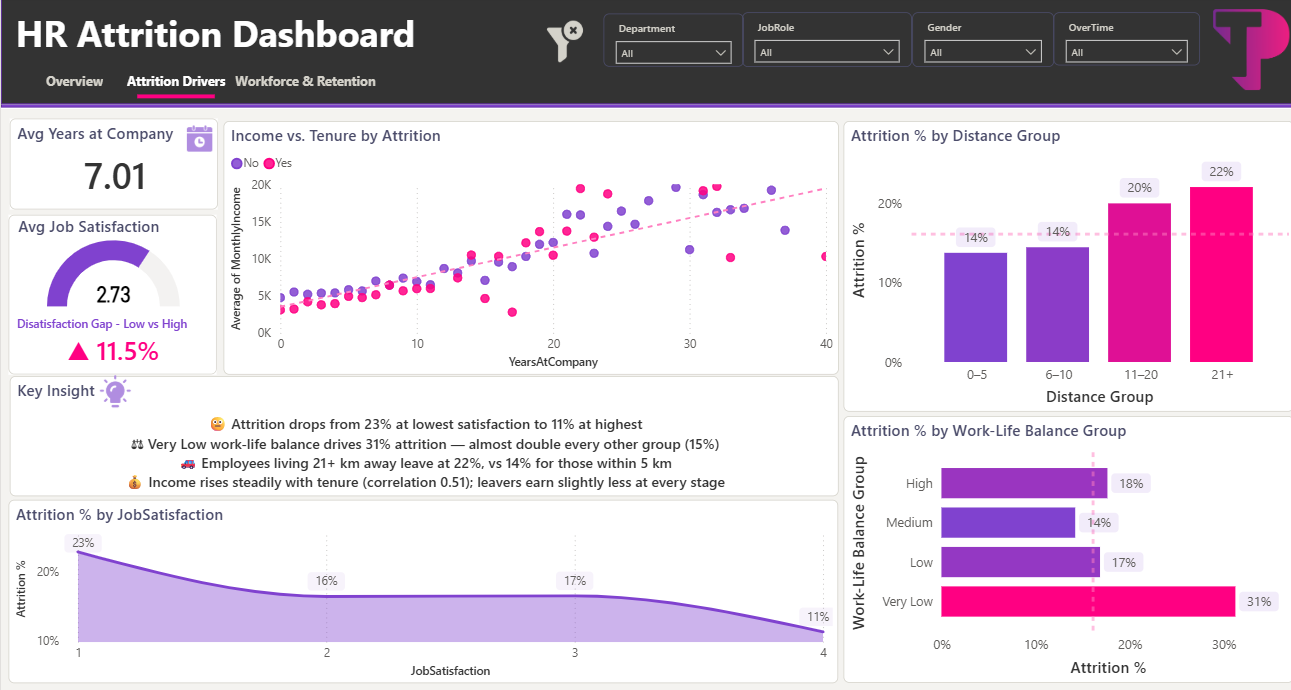

What the dashboard file says about the page in this screenshot:
{"tool":"powerbi","page":{"name":"Attrition Drivers","canvas":[1342,720],"ordinal":1},"visuals":[{"type":"shape","box":[0,5,1342,110.6],"z":0,"group":"g1"},{"type":"scatterChart","title":"Income vs. Tenure by Attrition","fields":{"Series":["Fact_Employee.Attrition"],"X":["Fact_Employee.YearsAtCompany"],"Y":["Avg(Fact_Employee.MonthlyIncome)"]},"box":[230.8,129.7,638.1,263.3],"z":0},{"type":"shape","box":[7.8,226.7,216.2,165.9],"z":0,"group":"g3"},{"type":"shape","box":[0,1.2,1342,110.9],"z":1000,"group":"g1"},{"type":"card","title":"Avg Years at Company","fields":{"Values":["Avg(Fact_Employee.YearsAtCompany)"]},"box":[8.8,126.9,216.2,94.3],"z":1000,"group":"g2"},{"type":"clusteredBarChart","fields":{"Category":["Fact_Employee.Work-Life Balance Group"],"Y":["Table_Measures.Attrition %"]},"box":[874.7,436.1,467.5,276.5],"z":1000},{"type":"image","box":[1253.3,0,89,110.9],"z":2000,"group":"g1"},{"type":"clusteredColumnChart","fields":{"Category":["Fact_Employee.Distance Group"],"Y":["Table_Measures.Attrition %"]},"box":[874.7,129.4,467.5,301.6],"z":2000},{"type":"card","title":"\tKey Insight","fields":{"Values":["Table_Measures.Key Insight - Satisfaction"]},"box":[9.1,394.2,859.8,124.5],"z":3000},{"type":"gauge","title":"\tAvg Job Satisfaction","fields":{"Y":["Avg(Fact_Employee.JobSatisfaction)"]},"box":[12.6,226.7,207.7,100.5],"z":4000,"group":"g3"},{"type":"areaChart","fields":{"Category":["Fact_Employee.JobSatisfaction"],"Y":["Table_Measures.Attrition %"]},"box":[7.8,522.6,861.1,190.6],"z":4000},{"type":"group","id":"g1","title":"Group 7","box":[0,0,1342.2,117.3],"z":5000},{"type":"slicer","fields":{"Values":["Dim_Department.Department"]},"box":[624.6,17.6,145.8,55.3],"z":6000,"group":"g1"},{"type":"group","id":"g2","title":"Group 1","box":[8.8,126.9,216.2,94.3],"z":6000},{"type":"slicer","fields":{"Values":["Dim_JobRole.JobRole"]},"box":[769.2,16.3,176,56.6],"z":7000,"group":"g1"},{"type":"slicer","fields":{"Values":["Fact_Employee.Gender"]},"box":[945.1,16.3,147,56.6],"z":8000,"group":"g1"},{"type":"card","title":"Disatisfaction Gap - Low vs High","fields":{"Values":["Table_Measures.Satisfaction Gap Format"]},"box":[11.6,332.3,209.9,56.6],"z":8000,"group":"g3"},{"type":"image","box":[88.2,387.8,61,45.4],"z":8000},{"type":"slicer","fields":{"Values":["Fact_Employee.OverTime"]},"box":[1092.2,16.3,152.1,55.3],"z":9000,"group":"g1"},{"type":"group","id":"g3","title":"Group 2","box":[7.8,226.7,215.3,166],"z":9000},{"type":"textbox","box":[10.1,7.5,475.1,64.1],"z":11000,"group":"g1"},{"type":"shape","box":[26.4,57,100.5,60.3],"z":12000,"group":"g1"},{"type":"shape","box":[129.4,56.6,104.3,60.3],"z":13000,"group":"g1"},{"type":"shape","box":[236.3,56.6,159.6,60.3],"z":14000,"group":"g1"},{"type":"shape","box":[140.8,95.5,80.4,16.3],"z":15000,"group":"g1"},{"type":"image","box":[188.3,127,36.6,41.4],"z":17008,"group":"g2"},{"type":"image","box":[544.2,20.1,80.4,52.8],"z":17010,"group":"g1"}]}

Visuals, with their boxes in screenshot pixels (x1, y1, x2, y2), scaled from the page's 1342x720 canvas onto the 1291x690 screenshot:
shape: (x1=0, y1=5, x2=1290, y2=111)
"Income vs. Tenure by Attrition" scatterChart: (x1=222, y1=124, x2=836, y2=377)
shape: (x1=8, y1=217, x2=215, y2=376)
shape: (x1=0, y1=1, x2=1290, y2=107)
"Avg Years at Company" card: (x1=8, y1=122, x2=216, y2=212)
clusteredBarChart - Fact_Employee.Work-Life Balance Group x Table_Measures.Attrition %: (x1=841, y1=418, x2=1290, y2=683)
image: (x1=1206, y1=0, x2=1290, y2=106)
clusteredColumnChart - Fact_Employee.Distance Group x Table_Measures.Attrition %: (x1=841, y1=124, x2=1290, y2=413)
"	Key Insight" card: (x1=9, y1=378, x2=836, y2=497)
"	Avg Job Satisfaction" gauge: (x1=12, y1=217, x2=212, y2=314)
areaChart - Fact_Employee.JobSatisfaction x Table_Measures.Attrition %: (x1=8, y1=501, x2=836, y2=683)
"Group 7" group: (x1=0, y1=0, x2=1290, y2=112)
slicer - Dim_Department.Department: (x1=601, y1=17, x2=741, y2=70)
"Group 1" group: (x1=8, y1=122, x2=216, y2=212)
slicer - Dim_JobRole.JobRole: (x1=740, y1=16, x2=909, y2=70)
slicer - Fact_Employee.Gender: (x1=909, y1=16, x2=1051, y2=70)
"Disatisfaction Gap - Low vs High" card: (x1=11, y1=318, x2=213, y2=373)
image: (x1=85, y1=372, x2=144, y2=415)
slicer - Fact_Employee.OverTime: (x1=1051, y1=16, x2=1197, y2=69)
"Group 2" group: (x1=8, y1=217, x2=215, y2=376)
textbox: (x1=10, y1=7, x2=467, y2=69)
shape: (x1=25, y1=55, x2=122, y2=112)
shape: (x1=124, y1=54, x2=225, y2=112)
shape: (x1=227, y1=54, x2=381, y2=112)
shape: (x1=135, y1=92, x2=213, y2=107)
image: (x1=181, y1=122, x2=216, y2=161)
image: (x1=524, y1=19, x2=601, y2=70)
